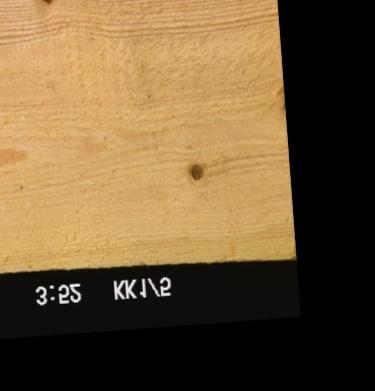sound_knot: (188, 162, 203, 181)
